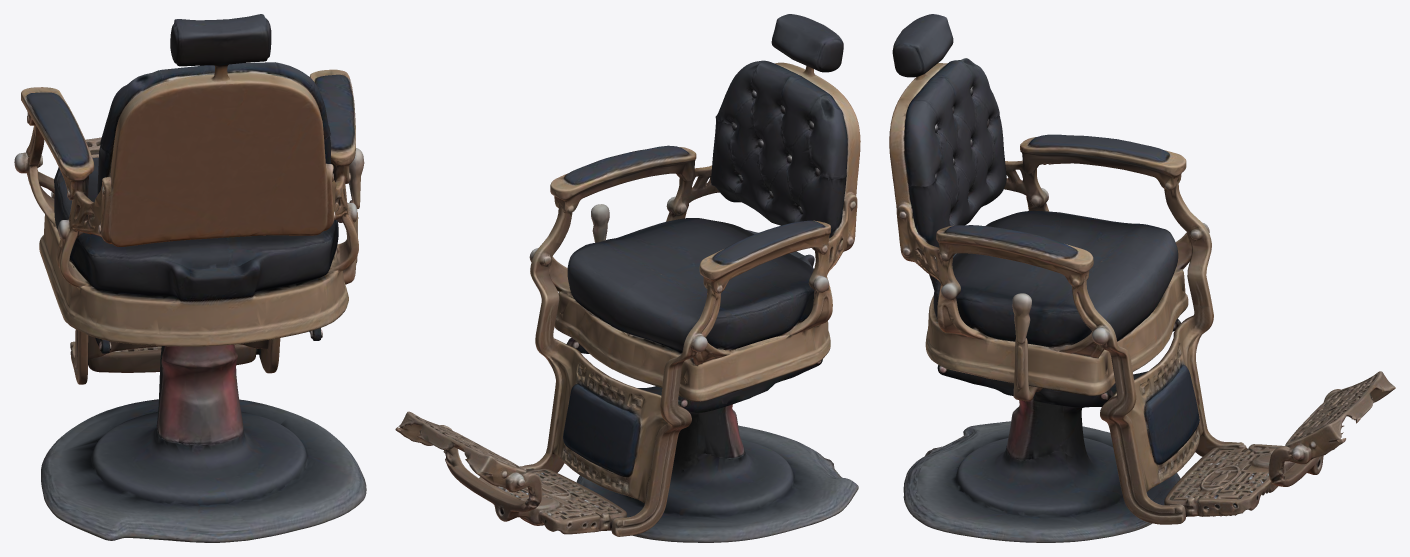
The picture shows the model from 3 angles, left to right: view 1: azimuth 30°, elevation 25°; view 2: azimuth 150°, elevation 25°; view 3: azimuth 270°, elevation 25°; orthographic projection. The views are drawn at different scales.
Visible parts, largest first — view 1: tripo_node_cf32f8e3-2b69-4ec3-a19f-1d663cdb9711; view 2: tripo_node_cf32f8e3-2b69-4ec3-a19f-1d663cdb9711; view 3: tripo_node_cf32f8e3-2b69-4ec3-a19f-1d663cdb9711.
Boxes of the visible parts, bbox=[...] form: tripo_node_cf32f8e3-2b69-4ec3-a19f-1d663cdb9711: bbox=[14, 14, 366, 542]; tripo_node_cf32f8e3-2b69-4ec3-a19f-1d663cdb9711: bbox=[395, 14, 860, 542]; tripo_node_cf32f8e3-2b69-4ec3-a19f-1d663cdb9711: bbox=[889, 14, 1395, 542].
Bounding box in the file's own units: 0.6686 × 0.9415 × 0.9844.
Materials: 1 (1 with a texture image).
